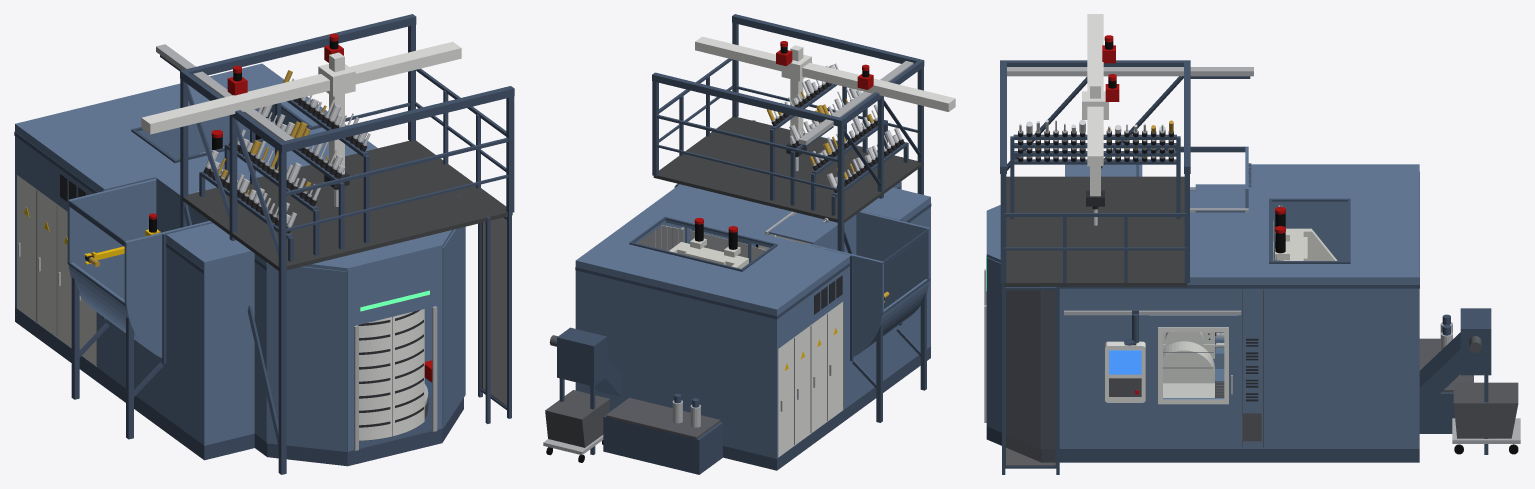
File: clock1200evo_fms_topmag_blue.glb
3 views of the same model, side by side, from view 1: azimuth 30°, elevation 25°; view 2: azimuth 150°, elevation 25°; view 3: azimuth 270°, elevation 25° (orthographic). The views are drawn at different scales.
Parts seen in each view (by area): view 1: enclosure__mcm_blue, apc_housing__mcm_blue, tool_magazine_top__mcm_blue_dk, tool_magazine_top__grating, tc_box__mcm_blue, electrical_cabinet__evo_white, tm_carriage__evo_white, enclosure__mcm_blue_dk, tool_magazine_top__mesh, apc_housing__mcm_blue_dk, apc_door_left__evo_white, apc_door_right__evo_white (+12 smaller); view 2: enclosure__mcm_blue, tool_magazine_top__mcm_blue_dk, tool_magazine_top__grating, tc_box__mcm_blue, chip_coolant__mcm_blue_dk, electrical_cabinet__evo_white, enclosure__mcm_blue_dk, tm_carriage__evo_white, chip_cart__steel_dark, chip_coolant__anthracite_lt, tc_box__mcm_blue_dk, tool_magazine_top__tool_bright (+12 smaller); view 3: enclosure__mcm_blue, tool_magazine_top__grating, tool_magazine_top__mcm_blue_dk, apc_housing__mcm_blue, tool_magazine_top__mesh, enclosure__mcm_blue_dk, chip_coolant__mcm_blue_dk, operator_door__glass_clear, operator_door__mcm_blue, chip_cart__steel_dark, table__struct_grey, tool_magazine_top__steel (+14 smaller).
Part boxes in pixels (x1,y1,x2,y2): enclosure__mcm_blue: [15, 63, 432, 445]; apc_housing__mcm_blue: [254, 226, 465, 451]; tool_magazine_top__mcm_blue_dk: [160, 14, 514, 474]; tool_magazine_top__grating: [182, 140, 512, 271]; tc_box__mcm_blue: [67, 178, 211, 357]; electrical_cabinet__evo_white: [17, 175, 96, 366]; tm_carriage__evo_white: [141, 41, 461, 134]; enclosure__mcm_blue_dk: [14, 104, 311, 460]; tool_magazine_top__mesh: [481, 217, 506, 406]; apc_housing__mcm_blue_dk: [254, 258, 463, 466]; apc_door_left__evo_white: [359, 317, 392, 440]; apc_door_right__evo_white: [392, 309, 424, 435]; enclosure__mcm_blue: [575, 184, 930, 458]; tool_magazine_top__mcm_blue_dk: [652, 14, 924, 253]; tool_magazine_top__grating: [653, 117, 922, 222]; tc_box__mcm_blue: [810, 211, 930, 356]; chip_coolant__mcm_blue_dk: [557, 327, 722, 474]; electrical_cabinet__evo_white: [778, 301, 843, 457]; enclosure__mcm_blue_dk: [575, 203, 931, 470]; tm_carriage__evo_white: [695, 36, 955, 111]; chip_cart__steel_dark: [545, 390, 610, 447]; chip_coolant__anthracite_lt: [606, 398, 720, 439]; tc_box__mcm_blue_dk: [852, 227, 930, 422]; tool_magazine_top__tool_bright: [774, 63, 901, 187]; enclosure__mcm_blue: [1065, 164, 1419, 448]; tool_magazine_top__grating: [1003, 176, 1187, 286]; tool_magazine_top__mcm_blue_dk: [1000, 60, 1250, 474]; apc_housing__mcm_blue: [986, 205, 1064, 448]; tool_magazine_top__mesh: [1006, 290, 1055, 465]; enclosure__mcm_blue_dk: [1065, 163, 1419, 462]; chip_coolant__mcm_blue_dk: [1419, 308, 1491, 454]; operator_door__glass_clear: [1163, 333, 1223, 398]; operator_door__mcm_blue: [1149, 315, 1237, 414]; chip_cart__steel_dark: [1453, 382, 1518, 438]; table__struct_grey: [1163, 332, 1214, 397]; tool_magazine_top__steel: [1007, 67, 1253, 158].
Size of the model in its own units: 5.12 by 5.58 by 7.86.
